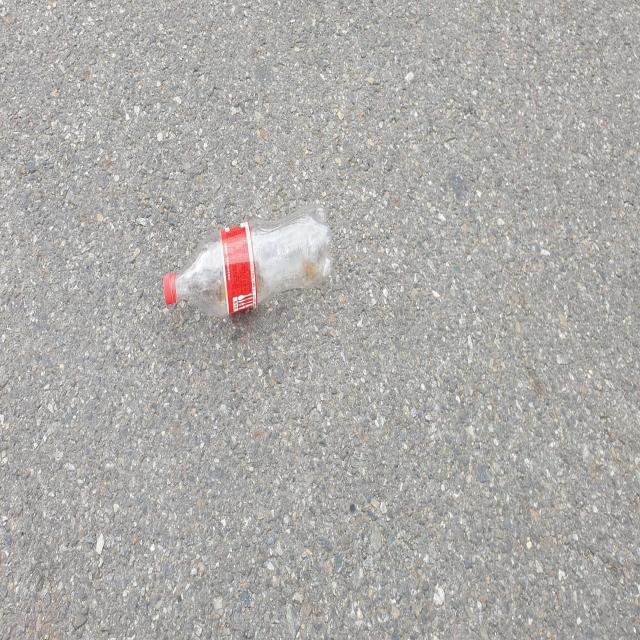plastic: (163, 203, 331, 316)
